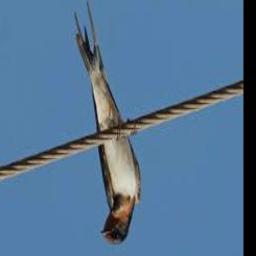Swallow: (74, 2, 141, 245)
